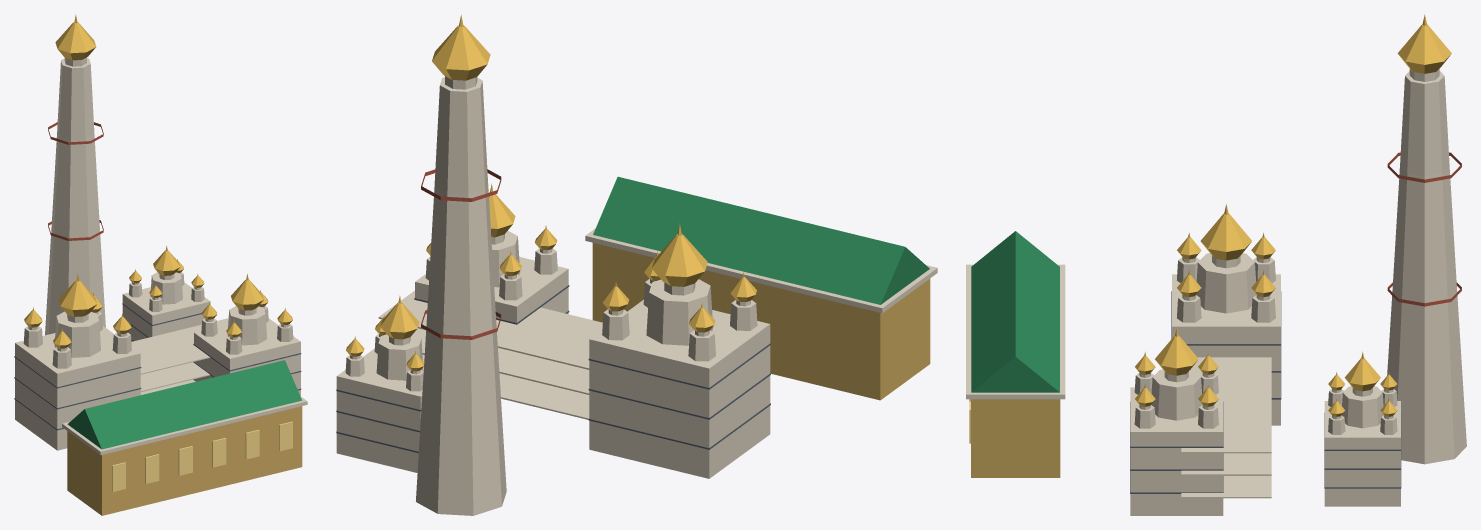
The model's file is lmk_kremlin_inside.glb.
The picture shows the model from 3 angles, left to right: view 1: azimuth 30°, elevation 25°; view 2: azimuth 150°, elevation 25°; view 3: azimuth 270°, elevation 25°; orthographic projection. The views are drawn at different scales.
Visible parts, largest first — view 1: lmk_kremlin_inside; view 2: lmk_kremlin_inside; view 3: lmk_kremlin_inside.
Boxes of the visible parts, x1,y1,x2,y2 form: lmk_kremlin_inside: (14,14,307,515); lmk_kremlin_inside: (336,15,937,515); lmk_kremlin_inside: (966,14,1466,515).
Size of the model in its own units: 16.22 by 19.25 by 20.2.
Materials: 1 (1 with a texture image).
